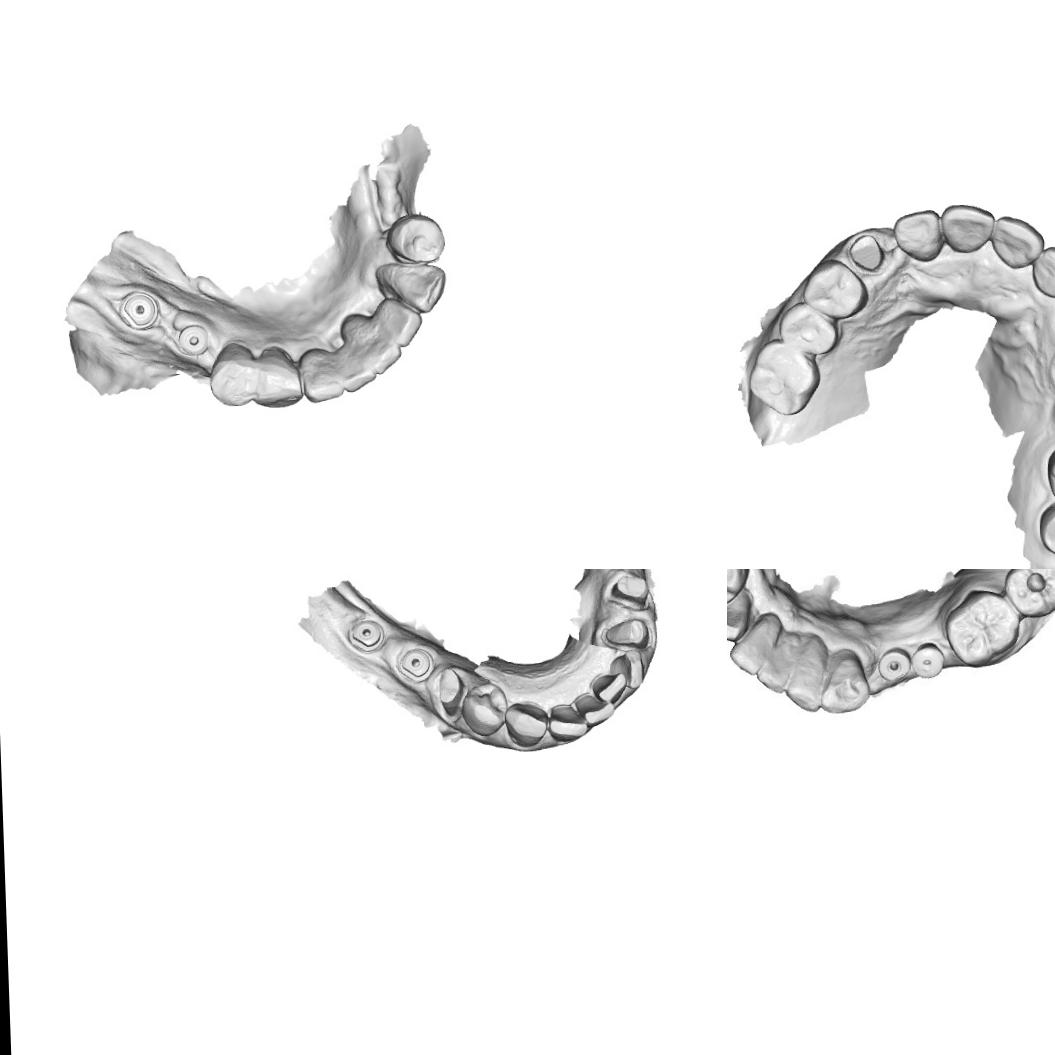canine: (376, 260, 447, 316), (250, 346, 305, 409), (820, 655, 868, 718), (503, 700, 550, 749), (727, 596, 755, 643)
crown: (601, 616, 652, 650), (434, 665, 466, 719), (848, 233, 886, 276), (608, 571, 652, 606)
implant: (115, 288, 160, 332), (395, 646, 436, 684), (348, 616, 386, 653), (878, 645, 914, 684), (912, 642, 946, 681), (176, 321, 210, 359)
incisor: (990, 214, 1046, 270), (784, 646, 830, 714), (727, 619, 777, 680), (890, 209, 945, 264), (939, 202, 996, 255), (754, 628, 798, 696), (298, 344, 345, 404), (373, 296, 424, 347), (336, 340, 378, 393), (546, 702, 589, 743), (606, 649, 646, 691), (363, 336, 402, 377), (574, 692, 615, 727), (1030, 244, 1055, 299), (590, 672, 630, 706)
molar: (942, 586, 1023, 670), (747, 336, 822, 417), (1000, 569, 1055, 619), (1038, 497, 1055, 559)
premolar: (800, 258, 870, 320), (777, 300, 839, 357), (385, 210, 447, 266), (208, 340, 257, 408), (460, 679, 510, 739), (727, 569, 752, 609)
